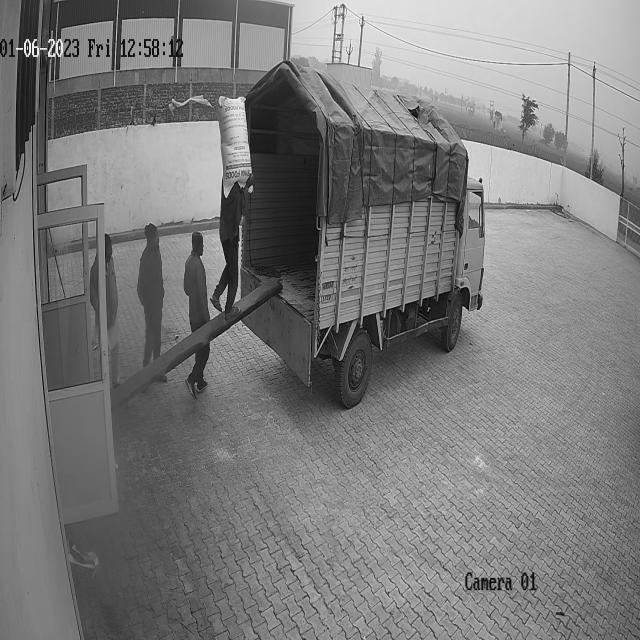sack: (214, 95, 252, 198)
